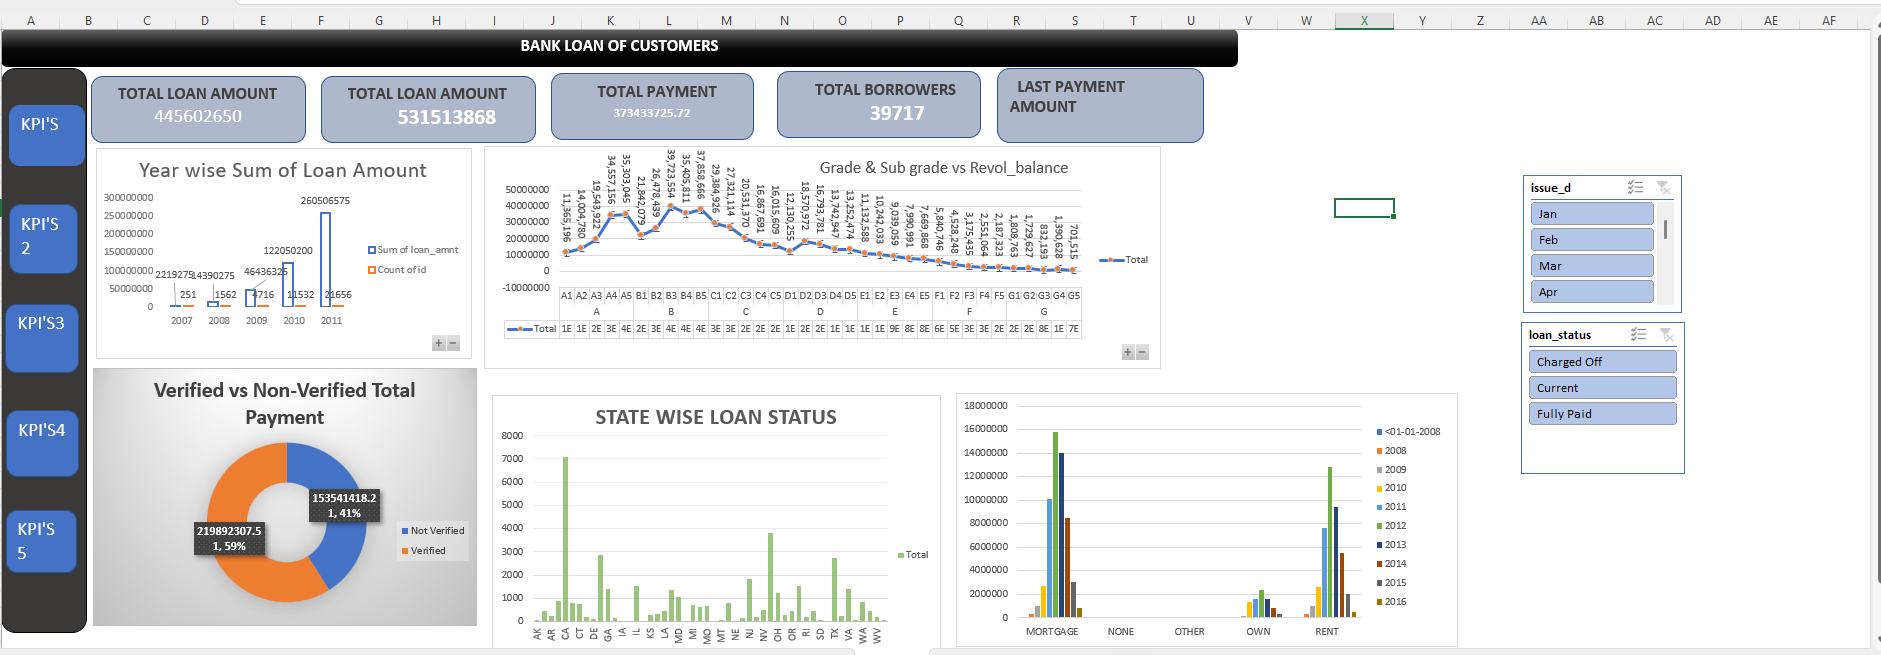

This screenshot's page, from the dashboard's own definition file:
{"tool":"tableau","page":{"name":"Dashboard 1","canvas":[1000,1000],"units":"permille","ordinal":0},"visuals":[{"type":"image","param":"Image/bank jpeg.jpg","box":[25.6,5,99,122.3]},{"type":"text","box":[126.3,6.6,262.8,117.4]},{"type":"filter","title":"KPI 1","param":"[federated.0h3ogim1k55zh81b7tx0f14es72z].[none:loan_status:nk]","box":[698.8,11.6,136.5,205]},{"type":"filter","title":"KPI 1","param":"[federated.0h3ogim1k55zh81b7tx0f14es72z].[yr:issue_d:ok]","box":[407.9,13.2,136.5,200]},{"type":"filter","title":"KPI 1","param":"[federated.0h3ogim1k55zh81b7tx0f14es72z].[sum:loan_amnt:qk]","box":[556.3,13.2,136.5,100.8]},{"type":"worksheet","title":"TOTAL","mark":"Automatic","box":[15.4,214.9,221,307.4]},{"type":"worksheet","title":"KPI 1","mark":"Line","rows":["loan_amnt"],"cols":["issue_d"],"box":[205.6,223.1,332.8,332.2]},{"type":"worksheet","title":"KPI  2","mark":"Automatic","rows":["revol_bal"],"cols":["grade","sub_grade"],"box":[556.3,223.1,332.8,332.2]},{"type":"parameter","param":"[Parameters].[Parameter 1]","box":[15.4,515.7,128,57.9]},{"type":"worksheet","title":"KPI 4","mark":"Automatic","rows":["last_credit_pull_d","loan_status"],"cols":["addr_state"],"box":[392.5,581.8,332.8,383.5]},{"type":"worksheet","title":"KPI 3","mark":"Pie","rows":["Calculation_788130002717913088","Calculation_788130002717913088"],"box":[12.8,583.5,370.3,366.9]}]}

Visuals, with their boxes on the dashboard's canvas, which has no fixed pixel size, in thousandths of its width and height (x1, y1, x2, y2). These are canvas units, not pixel positions in the 1881x655 screenshot, which may show the page scaled, cropped or inside an application window:
image: 26/5/125/127
text: 126/7/389/124
"KPI 1" filter: 699/12/835/217
"KPI 1" filter: 408/13/544/213
"KPI 1" filter: 556/13/693/114
"TOTAL" worksheet: 15/215/236/522
"KPI 1" worksheet (Line marks): 206/223/538/555
"KPI  2" worksheet: 556/223/889/555
parameter: 15/516/143/574
"KPI 4" worksheet: 392/582/725/965
"KPI 3" worksheet (Pie marks): 13/584/383/950
